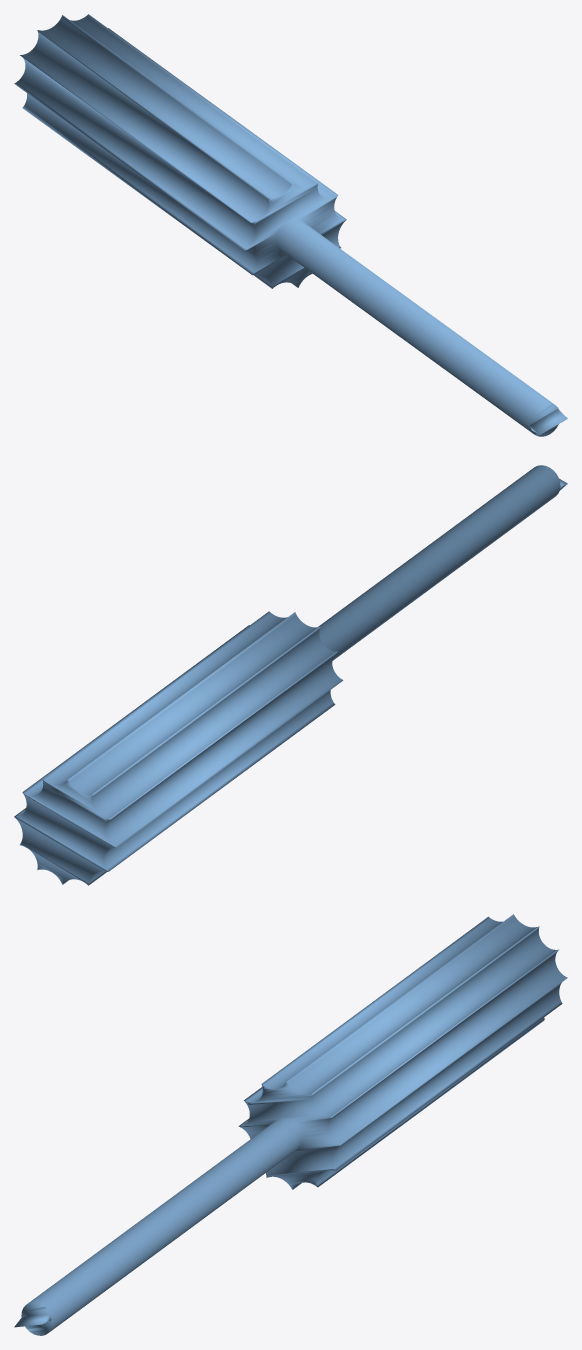
File: screwdriver1_4.dae
3 views of the same model, one above another, from view 1: azimuth 30°, elevation 25°; view 2: azimuth 150°, elevation 25°; view 3: azimuth 330°, elevation 25° (orthographic).
Visible parts, largest first — view 1: screwdriver1_019; view 2: screwdriver1_019; view 3: screwdriver1_019.
Part boxes in pixels (x1,y1,x2,y2): screwdriver1_019: [14, 14, 567, 436]; screwdriver1_019: [14, 465, 567, 885]; screwdriver1_019: [14, 914, 567, 1335].
Bounding box in the file's own units: 0.0454 × 0.3695 × 0.0448.
